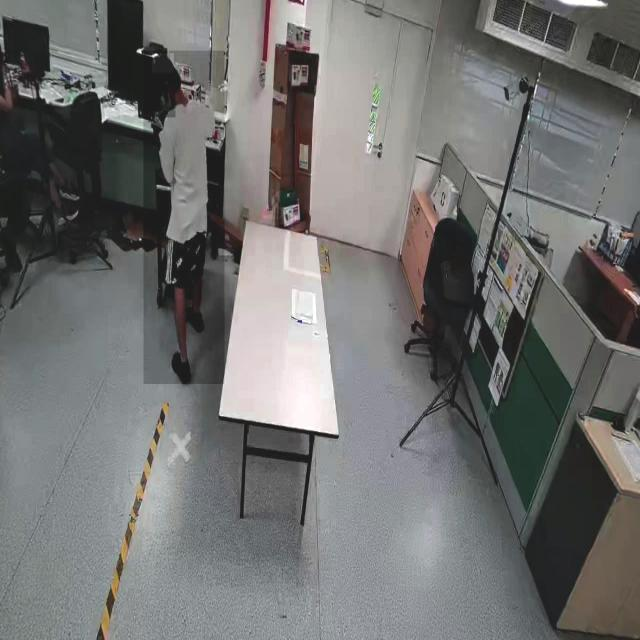face_mask: (154, 84, 176, 118)
head_nohelmet: (152, 53, 174, 74)
person: (143, 51, 225, 385)
shoes: (169, 343, 195, 391), (182, 298, 206, 331)
